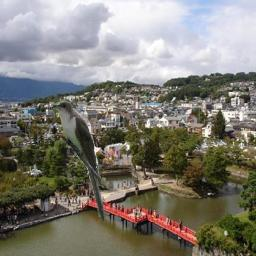Cuckoo: (51, 98, 107, 224)
